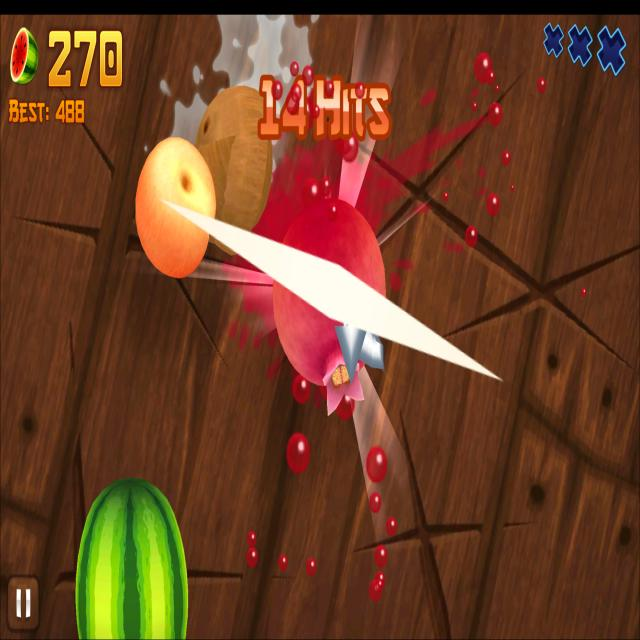fruit: (268, 195, 396, 395), (68, 476, 198, 640), (190, 82, 284, 228), (130, 136, 220, 282)
